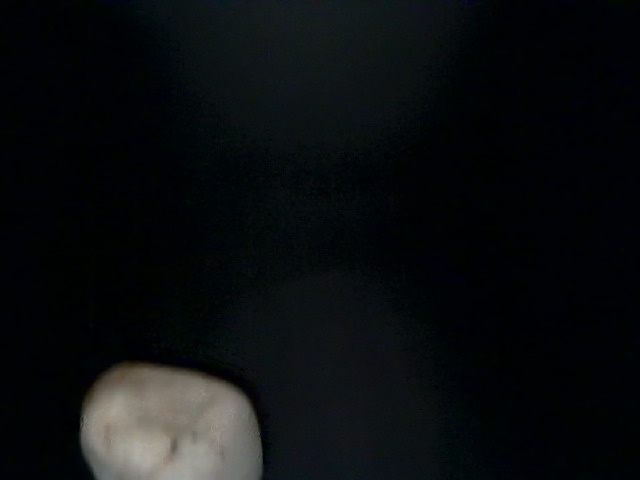QTLJ: (365, 167, 617, 368)
